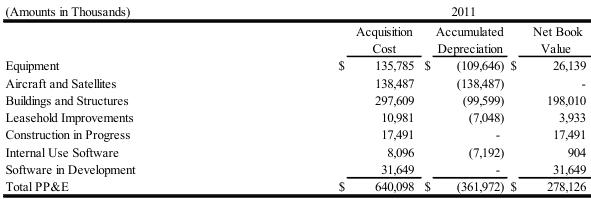table: (4, 3, 585, 193)
table column: (4, 3, 236, 193), (236, 3, 418, 193), (418, 3, 506, 193), (506, 3, 585, 193)
table column header: (4, 3, 585, 56)
table row: (4, 20, 585, 56), (4, 90, 585, 108), (4, 142, 585, 160), (4, 3, 585, 20), (4, 56, 585, 73), (4, 73, 585, 90), (4, 108, 585, 125), (4, 125, 585, 142), (4, 160, 585, 177), (4, 177, 585, 193)
table spanning cell: (236, 3, 585, 20)
